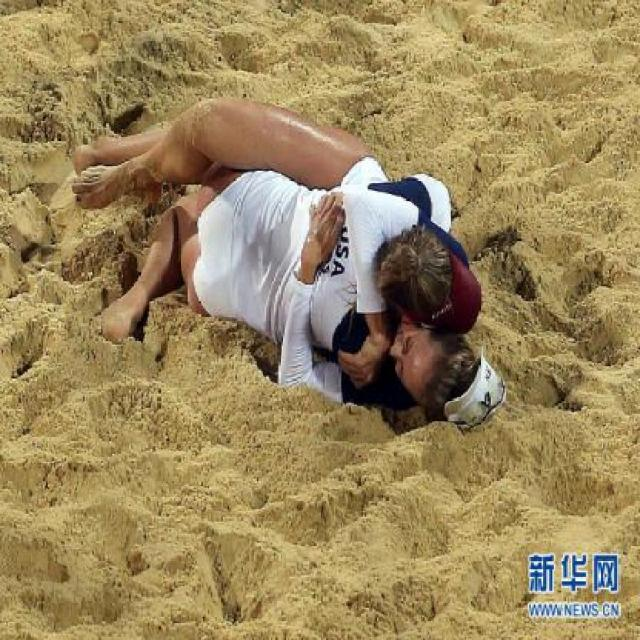fall: (88, 137, 489, 432)
